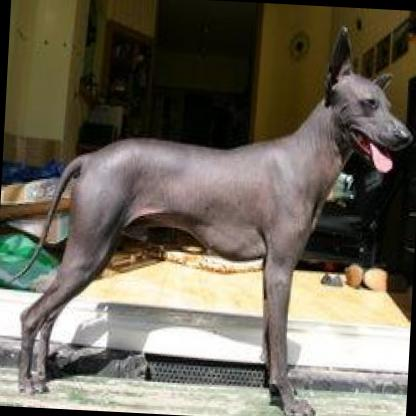Mexican_hairless: (0, 4, 414, 416)
